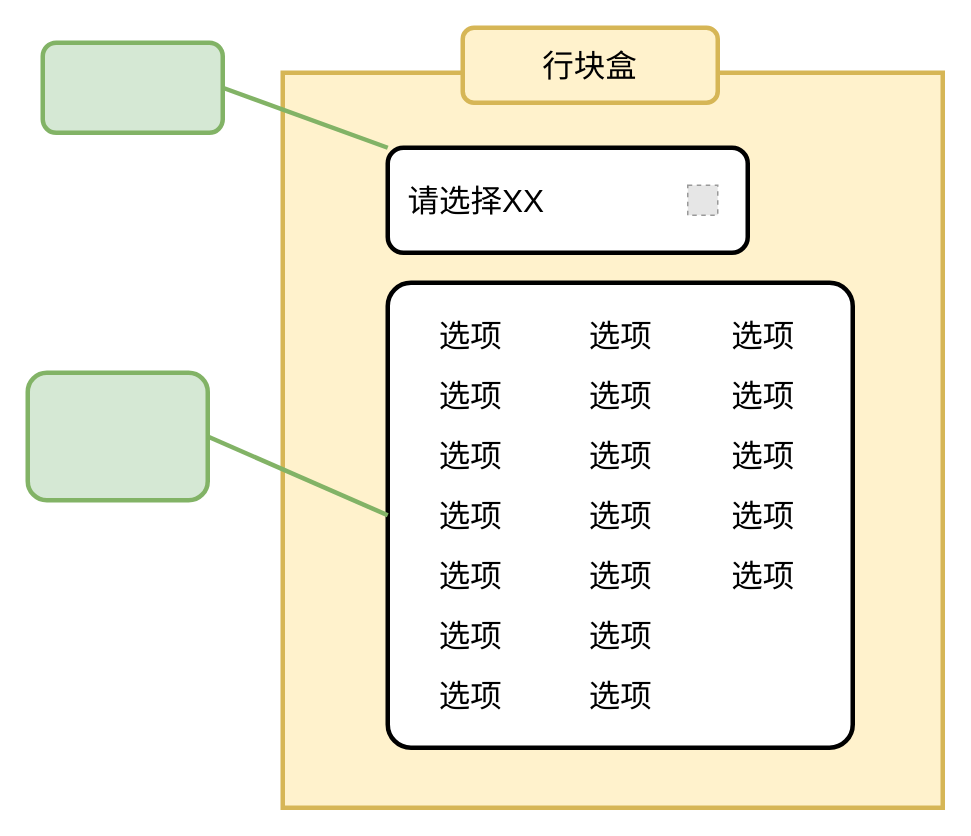
Image size: 971x836. Some labels were removed from this diagram. Grey dashed boxes stand in for pictures. Each missing label, with the centre of its shape:
最小宽度 弹性盒: (132,87)
网格布局 最大高度 绝对定位: (117,436)
